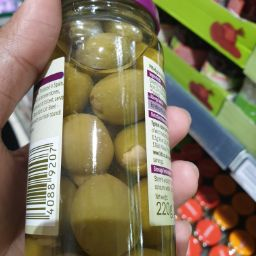Olives: (76, 11, 143, 256), (64, 171, 138, 256), (66, 98, 116, 190), (90, 66, 151, 129), (69, 15, 133, 75), (98, 113, 152, 181), (63, 62, 94, 113), (25, 234, 72, 256)
